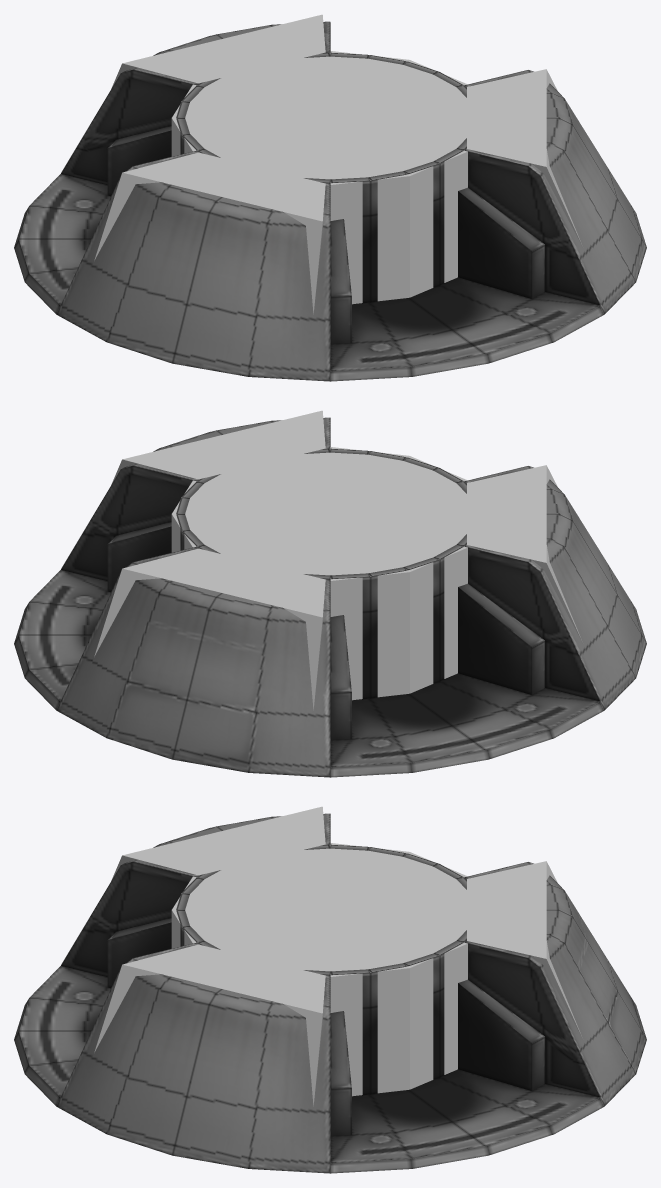
The model's file is Apollo_Block2_ParachuteMountWat.dae.
3 views of the same model, one above another, from view 1: azimuth 30°, elevation 25°; view 2: azimuth 150°, elevation 25°; view 3: azimuth 270°, elevation 25° (orthographic).
Parts seen in each view (by area): view 1: polySurface159, pCylinder67, pCube39_ncl1_1, pCube39_ncl1_2, pCube39; view 2: polySurface159, pCylinder67, pCube39, pCube39_ncl1_1, pCube39_ncl1_2; view 3: polySurface159, pCylinder67, pCube39_ncl1_2, pCube39, pCube39_ncl1_1.
Boxes of the visible parts, left/top/right/bottom form: polySurface159: left=14, top=21, right=646, bottom=381; pCylinder67: left=171, top=51, right=467, bottom=304; pCube39_ncl1_1: left=94, top=152, right=325, bottom=314; pCube39_ncl1_2: left=467, top=69, right=583, bottom=247; pCube39: left=111, top=14, right=325, bottom=88; polySurface159: left=14, top=417, right=646, bottom=777; pCylinder67: left=171, top=447, right=467, bottom=700; pCube39: left=94, top=548, right=325, bottom=710; pCube39_ncl1_1: left=467, top=465, right=583, bottom=643; pCube39_ncl1_2: left=111, top=410, right=325, bottom=484; polySurface159: left=14, top=813, right=646, bottom=1173; pCylinder67: left=171, top=843, right=467, bottom=1096; pCube39_ncl1_2: left=94, top=944, right=325, bottom=1106; pCube39: left=467, top=861, right=583, bottom=1039; pCube39_ncl1_1: left=111, top=806, right=325, bottom=880.
Bounding box in the file's own units: 1.25 × 0.2817 × 1.25.
